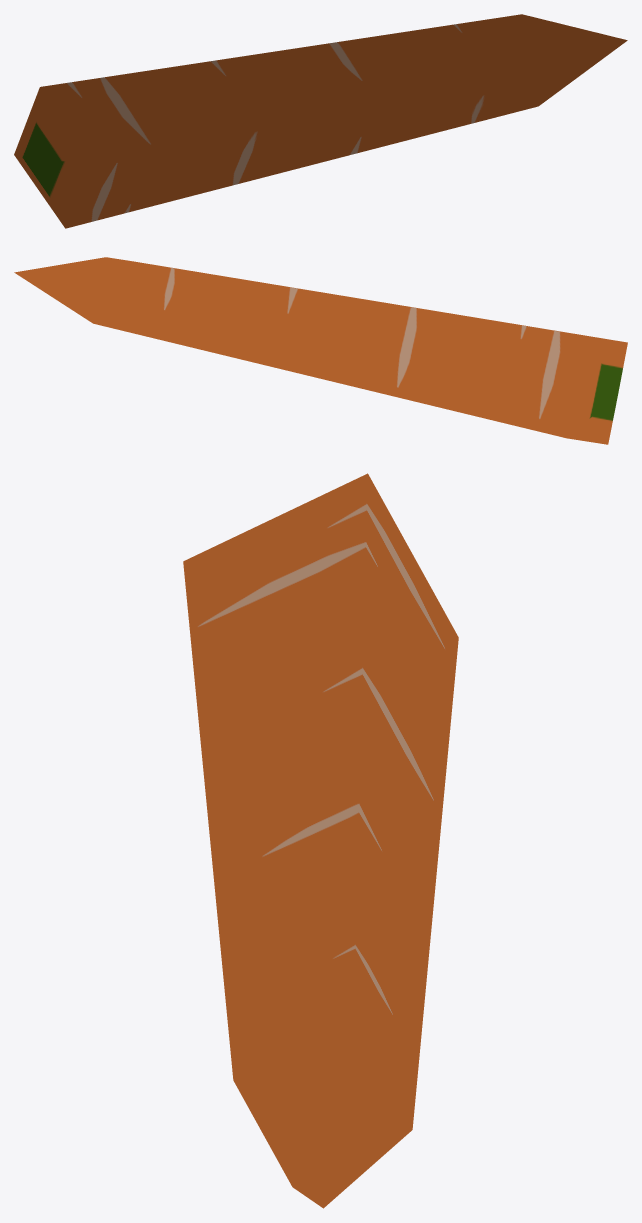
The model's file is PT_Carrot_02.fbx.
The picture shows the model from 3 angles, top to bottom: view 1: azimuth 30°, elevation 25°; view 2: azimuth 150°, elevation 25°; view 3: azimuth 270°, elevation 25°; orthographic projection. The views are drawn at different scales.
Visible parts, largest first — view 1: PT_Carrot_02_LOD0; view 2: PT_Carrot_02_LOD0; view 3: PT_Carrot_02_LOD0.
Boxes of the visible parts, x1,y1,x2,y2 form: PT_Carrot_02_LOD0: [14, 14, 627, 228]; PT_Carrot_02_LOD0: [14, 257, 627, 444]; PT_Carrot_02_LOD0: [183, 473, 458, 1208].
Size of what is drawn, in the model's own units: 42.6 by 8.54 by 8.53.
